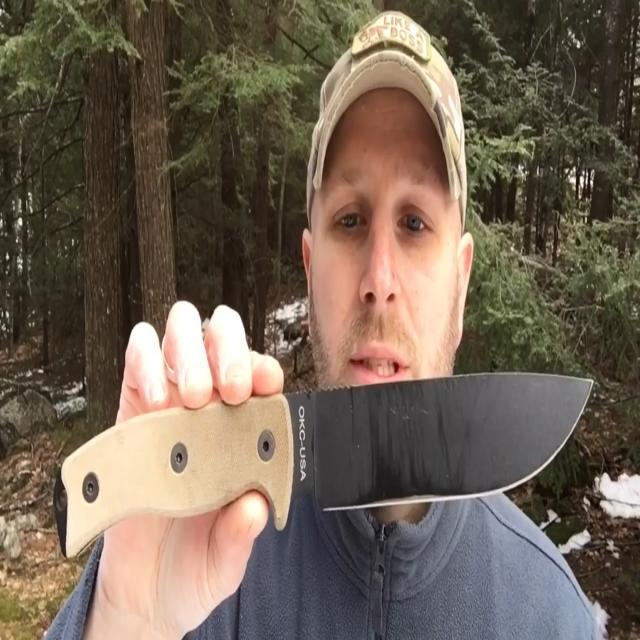knife: (44, 368, 606, 560)
